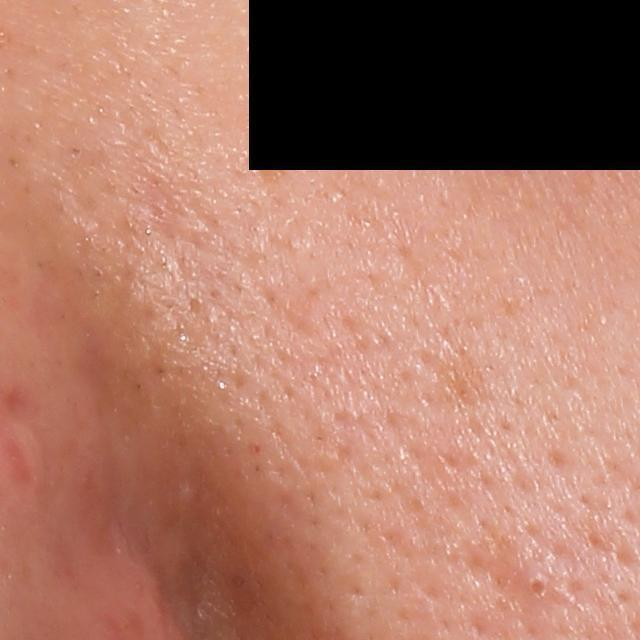comedo: (522, 574, 547, 602)
melasma: (248, 149, 287, 187)
